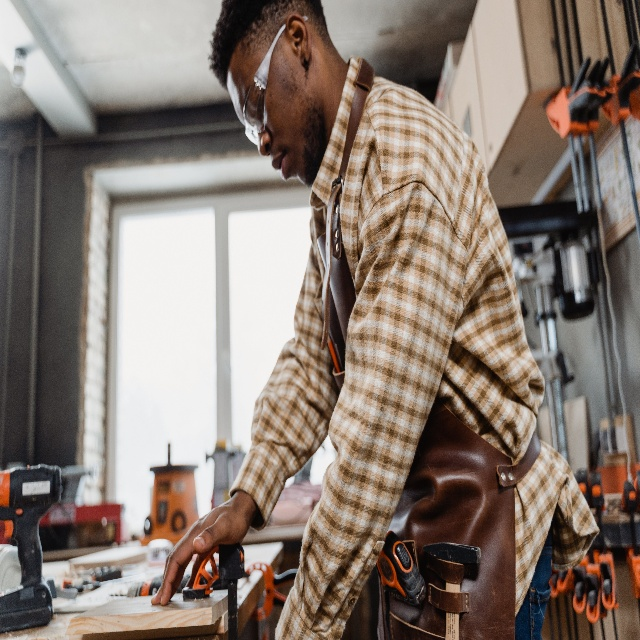Gafas: (244, 24, 287, 147)
Sin_guantes: (152, 497, 250, 604)
